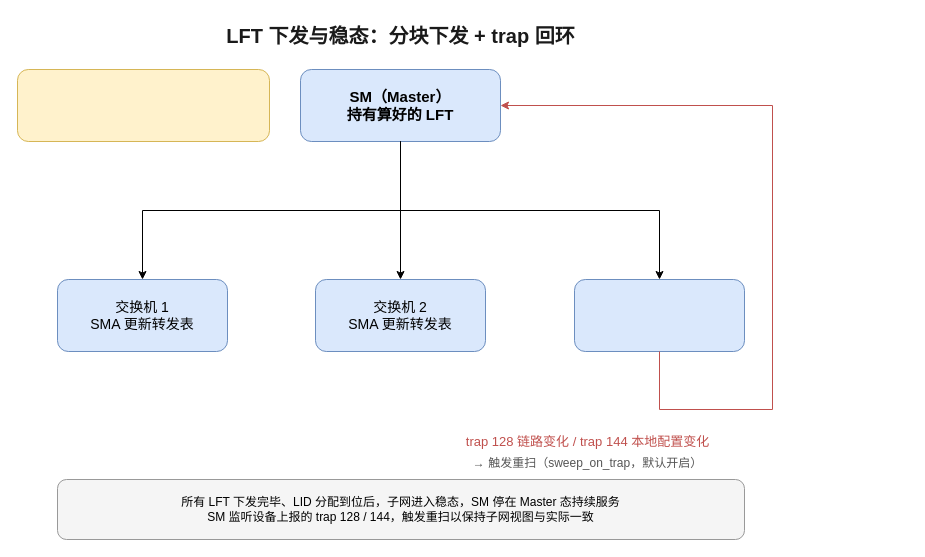
Image size: 925x557. Some labels were removed from this diagram. The box of each missing label's shape, as (x1, y1, x2, y2) in pixels:
SMP 写 LinearForwardingTable （分块下发，逐块确认）: (16, 68, 270, 142)
交换机 3 SMA 更新转发表: (574, 278, 744, 352)
